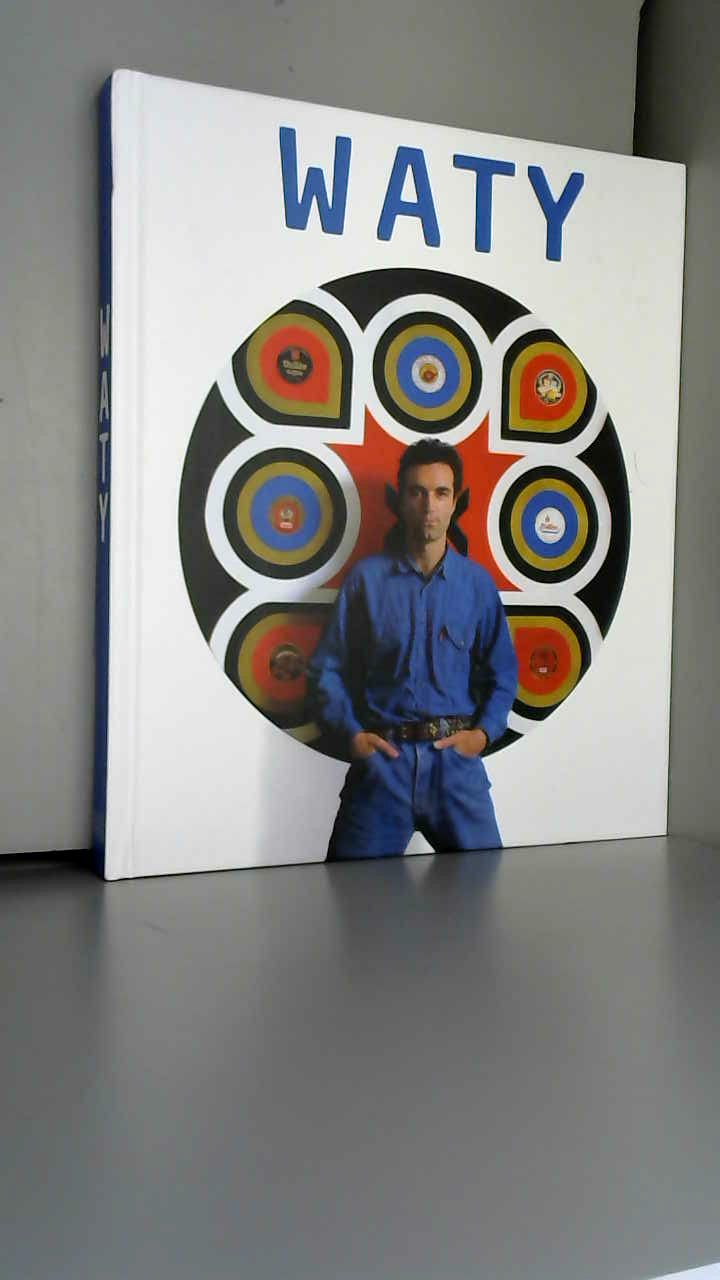book: (70, 40, 720, 939)
